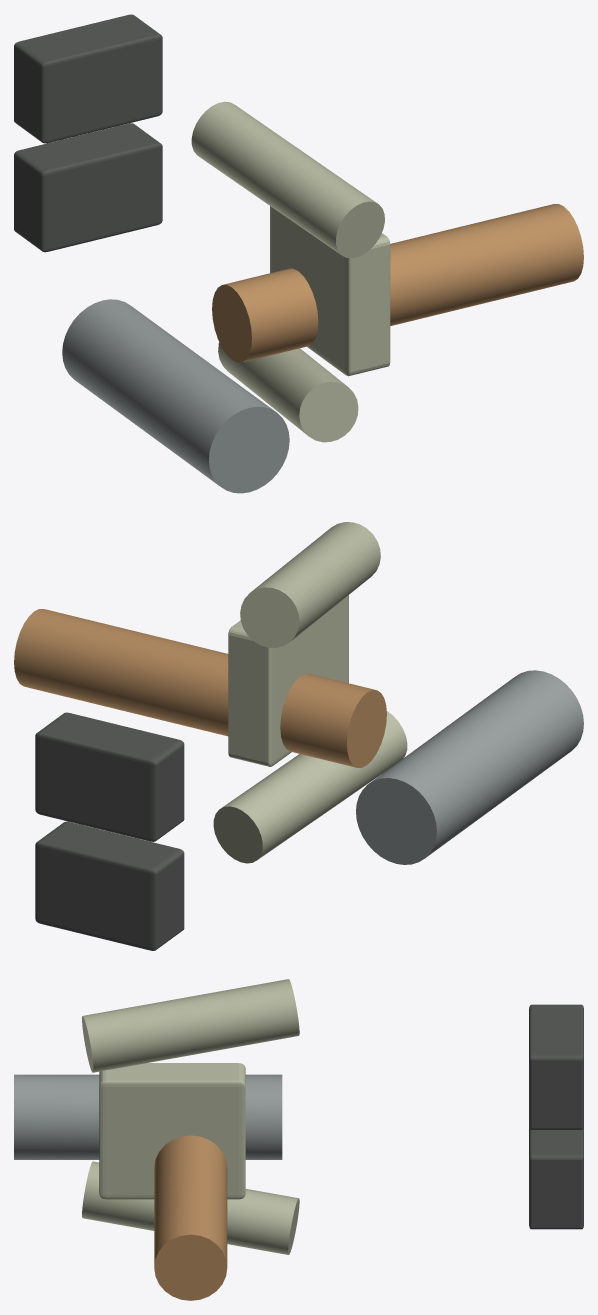
Rendered from v-u08-vanguard-flamethrower-lod2.glb.
The picture shows the model from 3 angles, top to bottom: view 1: azimuth 30°, elevation 25°; view 2: azimuth 150°, elevation 25°; view 3: azimuth 270°, elevation 25°; orthographic projection. The views are drawn at different scales.
Parts seen in each view (by area): view 1: soldier_0_flamer, fuel_tank_-1, soldier_0_boot_1, soldier_0_boot_-1, soldier_0_arm_1, soldier_0_chest, soldier_0_arm_-1; view 2: soldier_0_flamer, fuel_tank_-1, soldier_0_boot_1, soldier_0_boot_-1, soldier_0_chest, soldier_0_arm_-1, soldier_0_arm_1; view 3: soldier_0_chest, soldier_0_arm_1, soldier_0_flamer, fuel_tank_-1, soldier_0_boot_1, soldier_0_arm_-1, soldier_0_boot_-1.
Boxes of the visible parts, x1=… form: soldier_0_flamer: x1=212, y1=204, x2=583, y2=362; fuel_tank_-1: x1=62, y1=299, x2=289, y2=493; soldier_0_boot_1: x1=14, y1=14, x2=162, y2=143; soldier_0_boot_-1: x1=14, y1=123, x2=162, y2=252; soldier_0_arm_1: x1=191, y1=101, x2=384, y2=258; soldier_0_chest: x1=270, y1=206, x2=390, y2=376; soldier_0_arm_-1: x1=218, y1=342, x2=358, y2=442; soldier_0_flamer: x1=14, y1=609, x2=386, y2=767; fuel_tank_-1: x1=356, y1=670, x2=583, y2=864; soldier_0_boot_1: x1=35, y1=712, x2=184, y2=841; soldier_0_boot_-1: x1=35, y1=821, x2=184, y2=950; soldier_0_chest: x1=228, y1=595, x2=348, y2=766; soldier_0_arm_-1: x1=213, y1=711, x2=407, y2=863; soldier_0_arm_1: x1=240, y1=522, x2=380, y2=647; soldier_0_chest: x1=99, y1=1063, x2=245, y2=1199; soldier_0_arm_1: x1=82, y1=979, x2=299, y2=1072; soldier_0_flamer: x1=154, y1=1135, x2=227, y2=1300; fuel_tank_-1: x1=14, y1=1074, x2=282, y2=1159; soldier_0_boot_1: x1=529, y1=1004, x2=583, y2=1129; soldier_0_arm_-1: x1=82, y1=1161, x2=299, y2=1254; soldier_0_boot_-1: x1=529, y1=1126, x2=583, y2=1229.
Size of what is drawn, in the model's own units: 1.56 by 0.9312 by 1.87.
